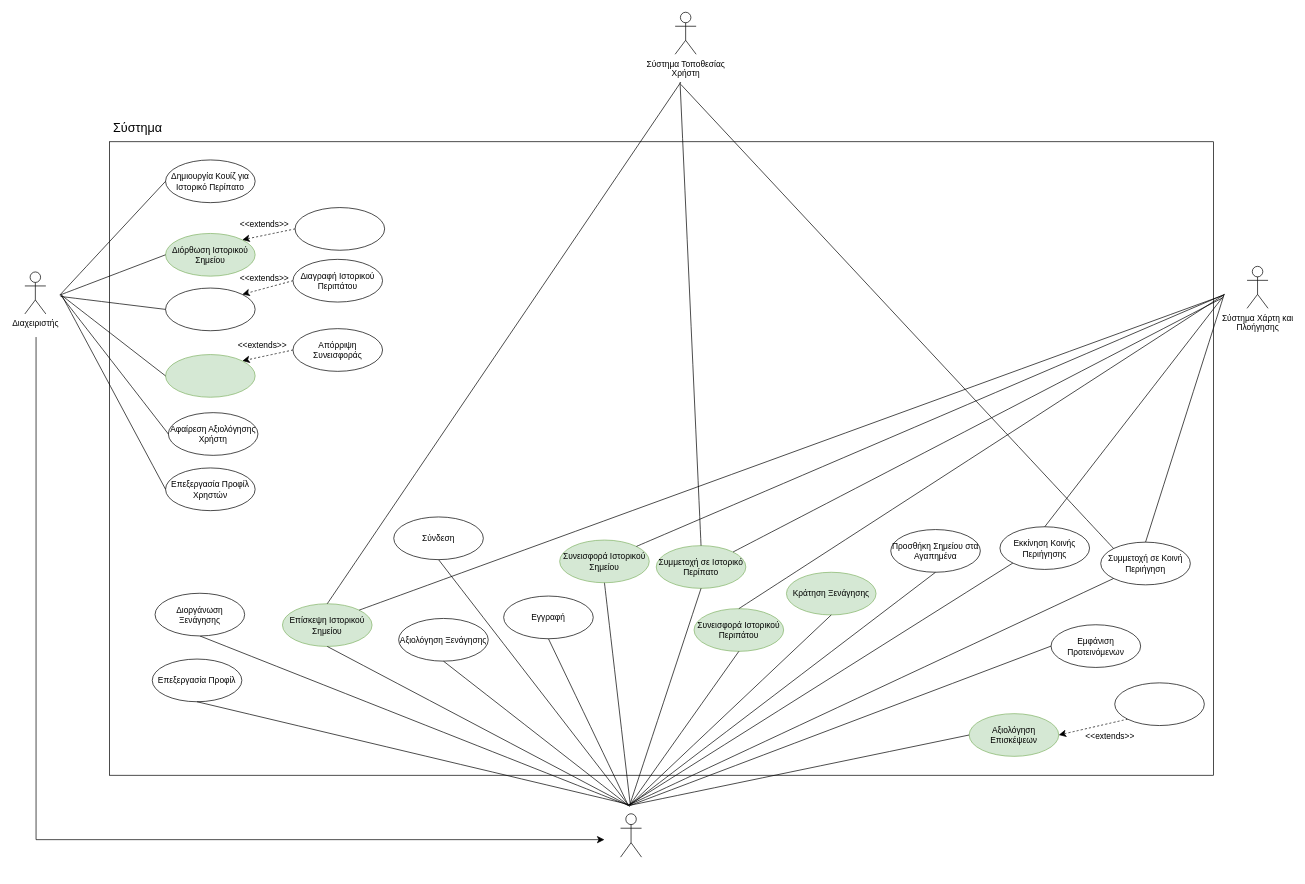
The diagram is 1305 pixels wide and 884 high, and some of its shapes have lost their labels. Each missing label, with the box of its shape:
Έγκριση Συνεισφοράς Χρήστη: (165, 354, 255, 397)
Αναφορά Λάθους: (1114, 682, 1204, 726)
Διαγραφή Ιστορικού Σημείου: (294, 207, 385, 250)
Διόρθωση Ιστορικού Περιπάτου: (165, 287, 255, 331)
Χρήστης: (620, 813, 642, 857)
